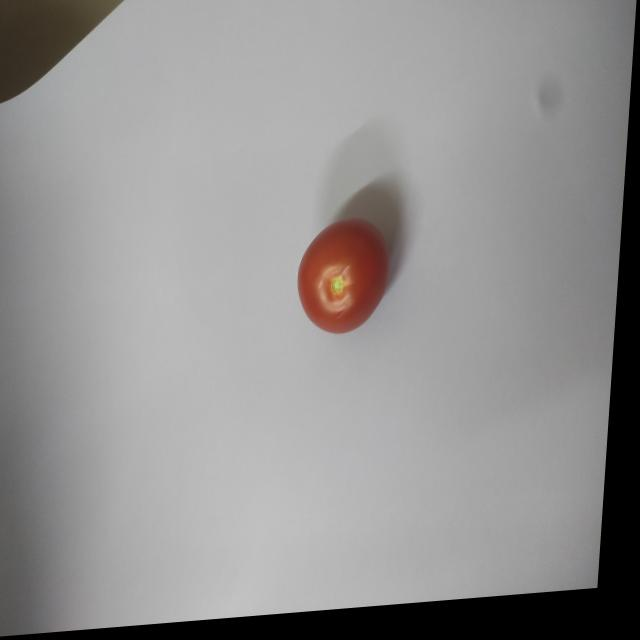kirmizi: (290, 213, 406, 347)
